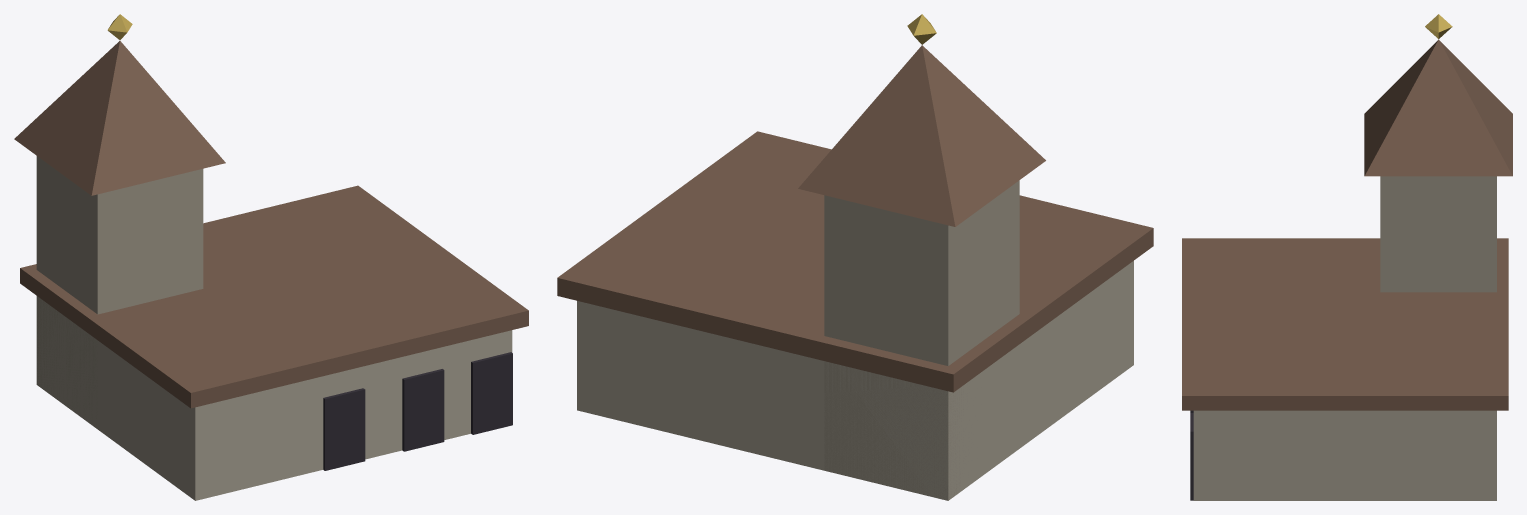
File: cloister.glb
3 renders of one model, left to right at view 1: azimuth 30°, elevation 25°; view 2: azimuth 150°, elevation 25°; view 3: azimuth 270°, elevation 25°, orthographic. The views are drawn at different scales.
Parts seen in each view (by area): view 1: cloister; view 2: cloister; view 3: cloister.
Part boxes in pixels (x1,y1,x2,y2): cloister: (14, 14, 528, 500); cloister: (557, 14, 1153, 500); cloister: (1182, 14, 1512, 500).
Bounding box in the file's own units: 0.3236 × 0.344 × 0.2836.
